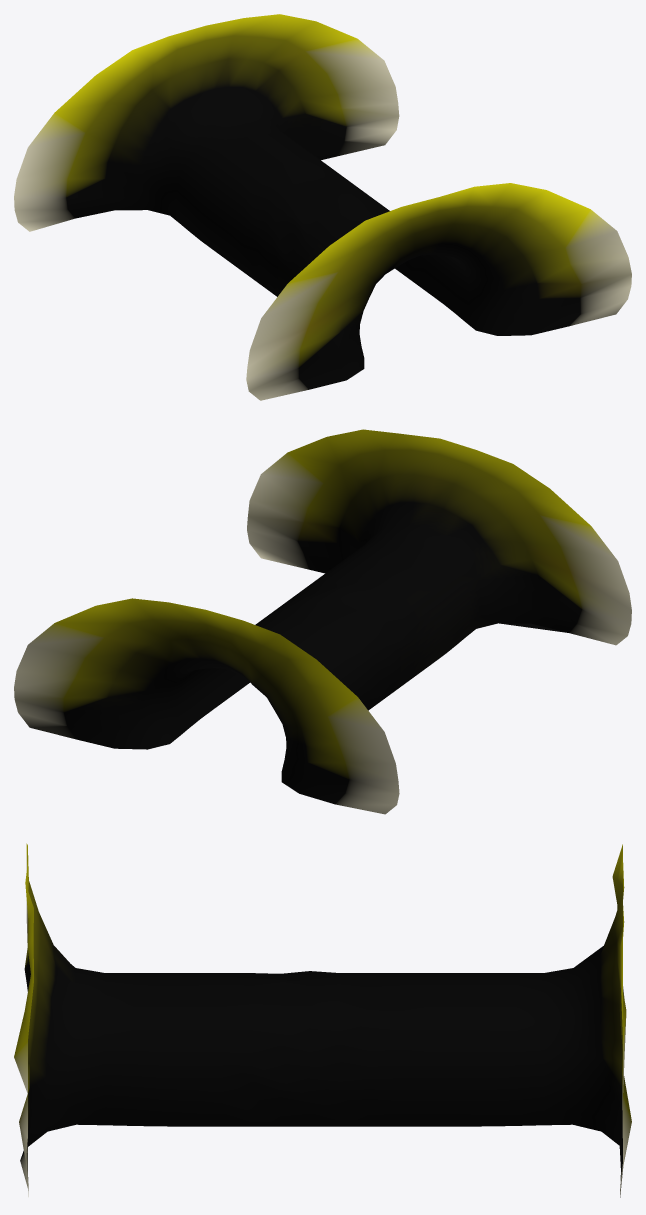
The model's file is rockTunnelv2_terrain.fbx.
3 views of the same model, one above another, from view 1: azimuth 30°, elevation 25°; view 2: azimuth 150°, elevation 25°; view 3: azimuth 270°, elevation 25° (orthographic). The views are drawn at different scales.
Visible parts, largest first — view 1: rockTunnel; view 2: rockTunnel; view 3: rockTunnel.
Part boxes in pixels (box(x1,y1,x2,y2)): rockTunnel: box(14, 14, 631, 400); rockTunnel: box(14, 429, 631, 814); rockTunnel: box(14, 843, 631, 1197).
Size of the model in its own units: 6981 by 2809 by 7599.
